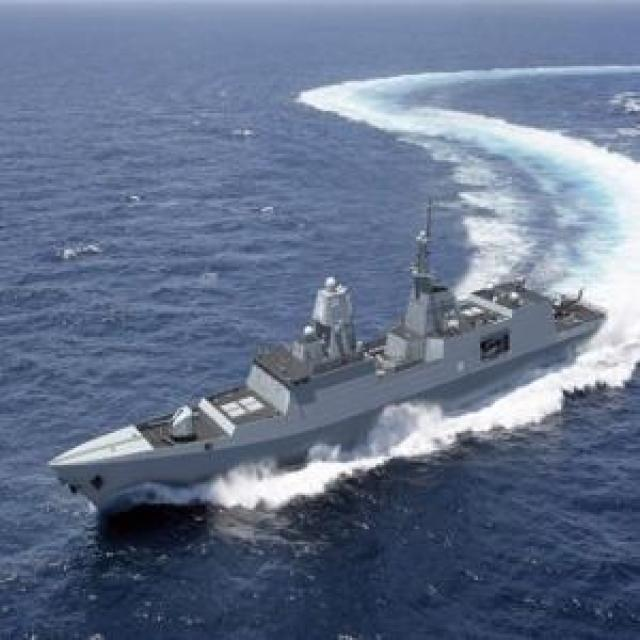navalvessels: (51, 192, 612, 498)
